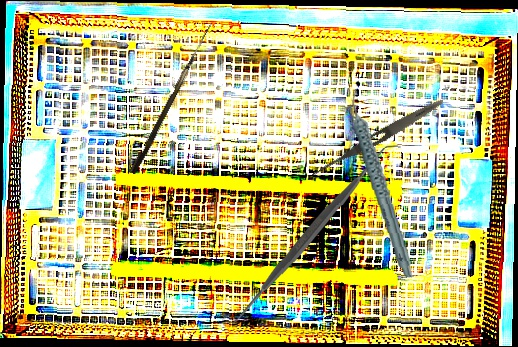Dressing Forceps: (307, 94, 447, 183)
Handpiece: (349, 85, 415, 281)
Hook Surgical: (128, 19, 213, 177)
Spatula Surgical: (222, 141, 401, 326)
